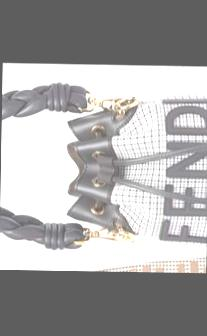FENDI: (156, 98, 207, 243)
